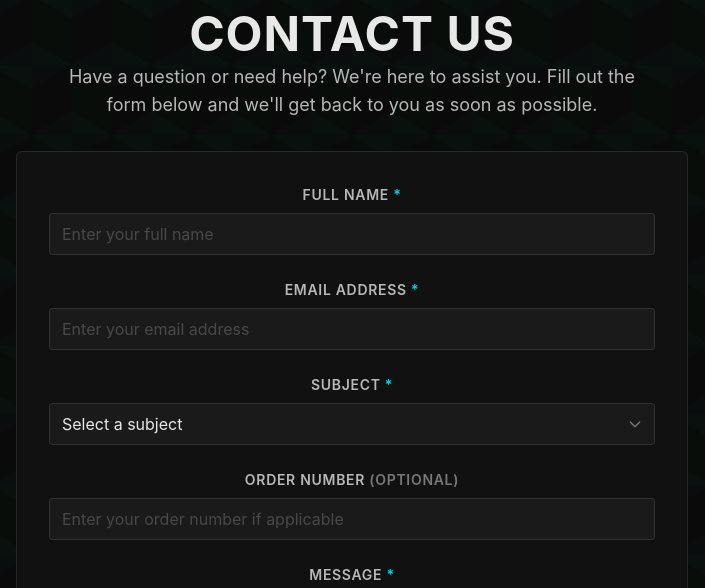
Scenario: ContactUsPage › Form validation › shows validation error for invalid email format
Type "invalid-email" into the field labelled "Email Address *" at (352, 329), box [49, 308, 655, 350]
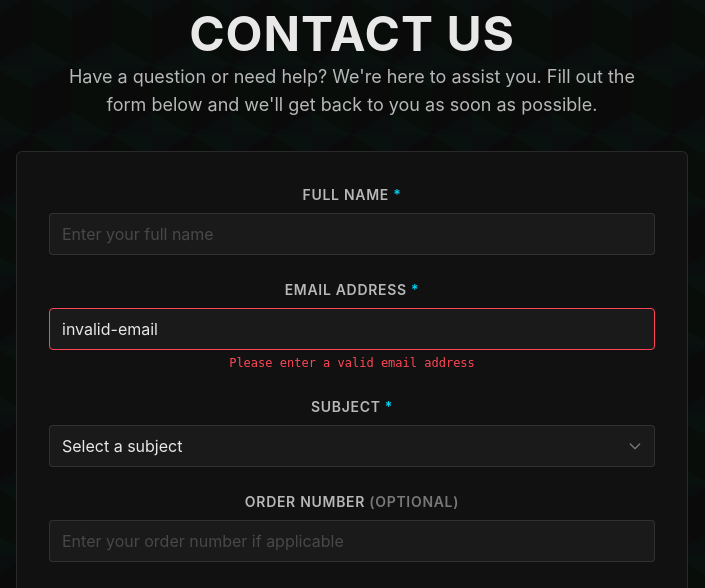
Expected: the text "Please enter a valid email address" is shown, [229, 356, 475, 370]
